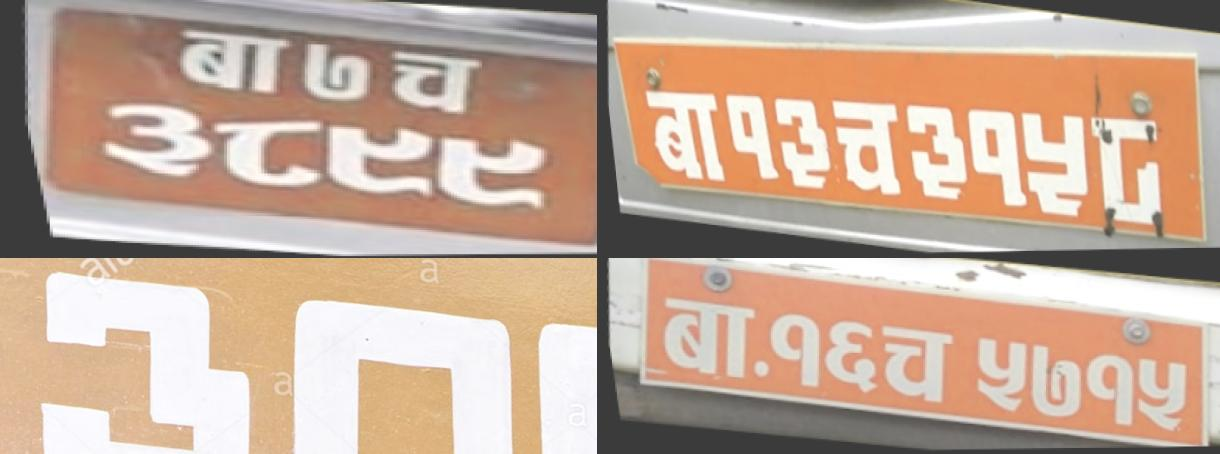0: (245, 274, 536, 454), (494, 299, 597, 454)
1: (952, 101, 1036, 215), (712, 88, 786, 188), (753, 305, 830, 394), (1069, 343, 1142, 432)
3: (0, 258, 282, 454), (74, 98, 220, 186), (891, 100, 972, 208), (760, 88, 838, 198)
5: (1007, 103, 1097, 226), (1122, 349, 1199, 443), (956, 332, 1034, 416)
6: (810, 312, 886, 400)
7: (282, 38, 385, 109), (1014, 336, 1089, 424)
8: (187, 105, 333, 198), (1074, 109, 1173, 235)
9: (411, 125, 570, 218), (299, 115, 445, 205)
ba: (626, 77, 732, 192), (646, 289, 764, 388), (157, 25, 301, 101)
cha: (820, 91, 908, 203), (369, 46, 494, 120), (863, 319, 963, 411)
